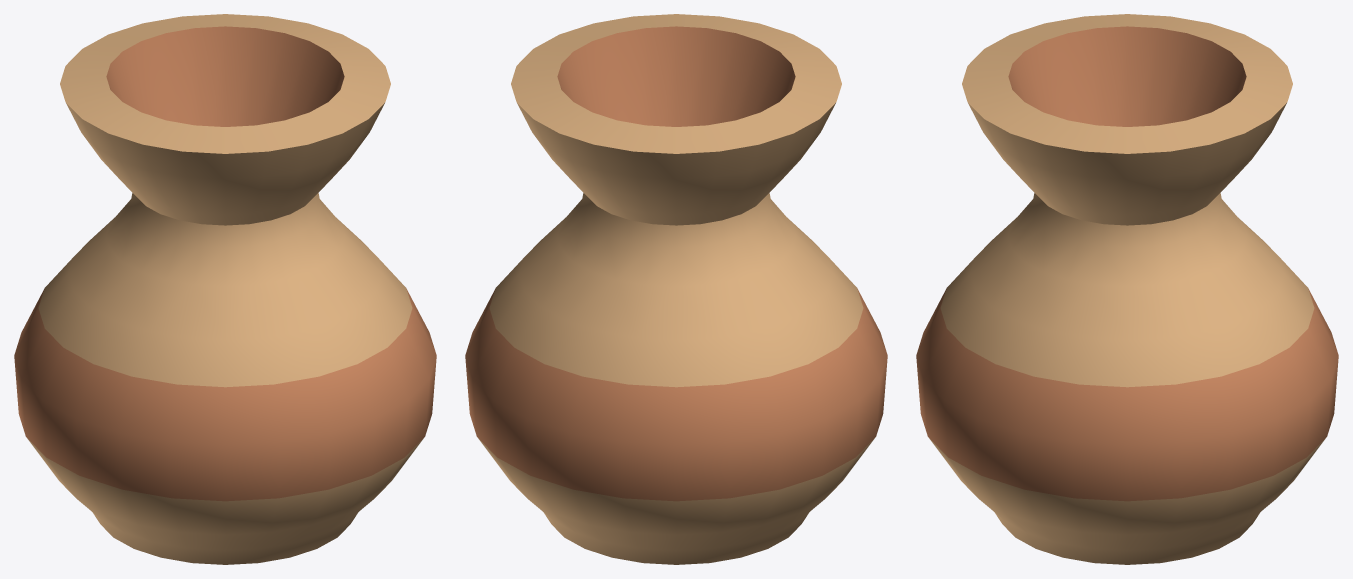
The model's file is potB_decorated.glb.
3 renders of one model, left to right at view 1: azimuth 30°, elevation 25°; view 2: azimuth 150°, elevation 25°; view 3: azimuth 270°, elevation 25°, orthographic.
Parts seen in each view (by area): view 1: potB_decorated; view 2: potB_decorated; view 3: potB_decorated.
Part boxes in pixels (x1=…): potB_decorated: x1=14, y1=14, x2=436, y2=564; potB_decorated: x1=465, y1=14, x2=887, y2=564; potB_decorated: x1=916, y1=14, x2=1338, y2=564.
Bounding box in the file's own units: 0.1471 × 0.1665 × 0.1471.
